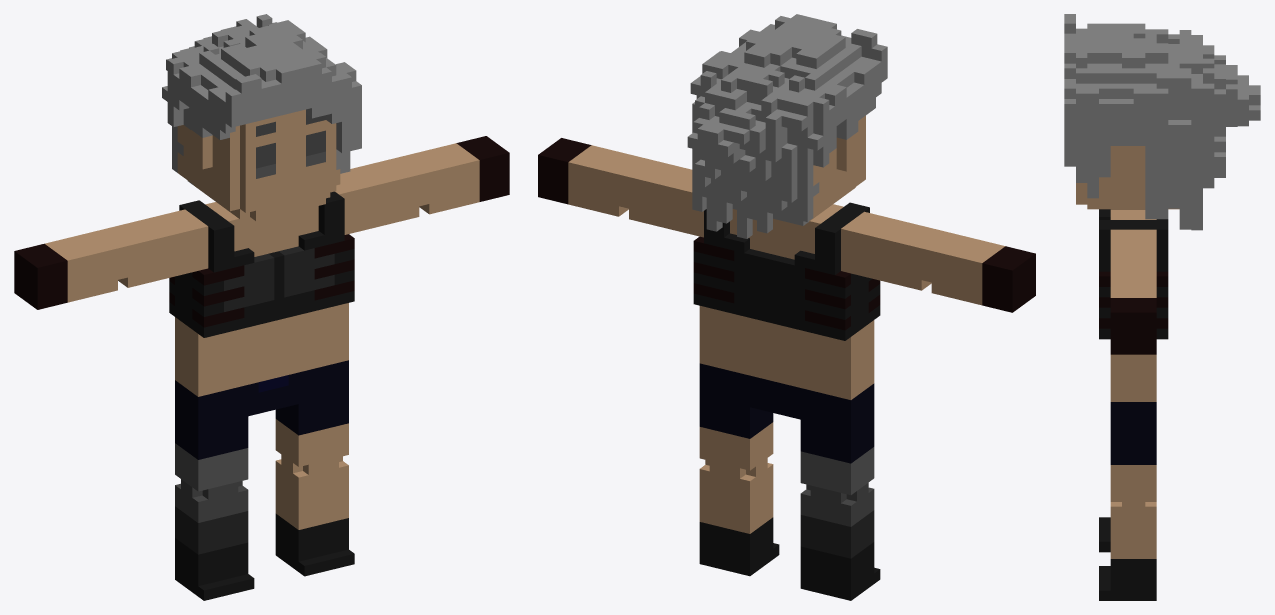
Rendered from character9.obj.
3 renders of one model, left to right at view 1: azimuth 30°, elevation 25°; view 2: azimuth 150°, elevation 25°; view 3: azimuth 270°, elevation 25°, orthographic.
Bounding box in the file's own units: 4.7 × 5 × 1.7.
Materials: 1 (1 with a texture image).
